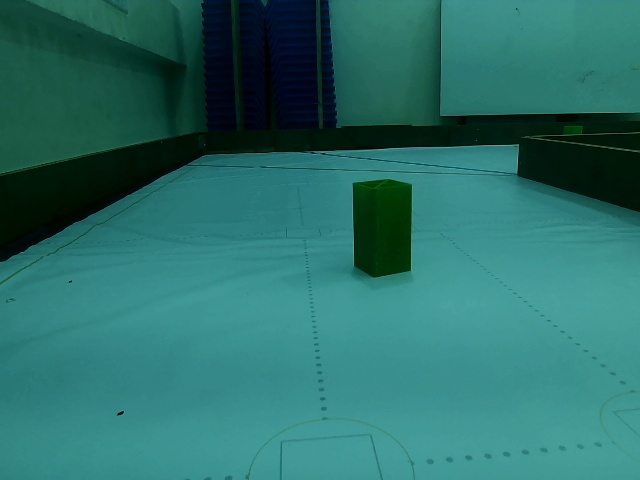green: (354, 181, 414, 275)
